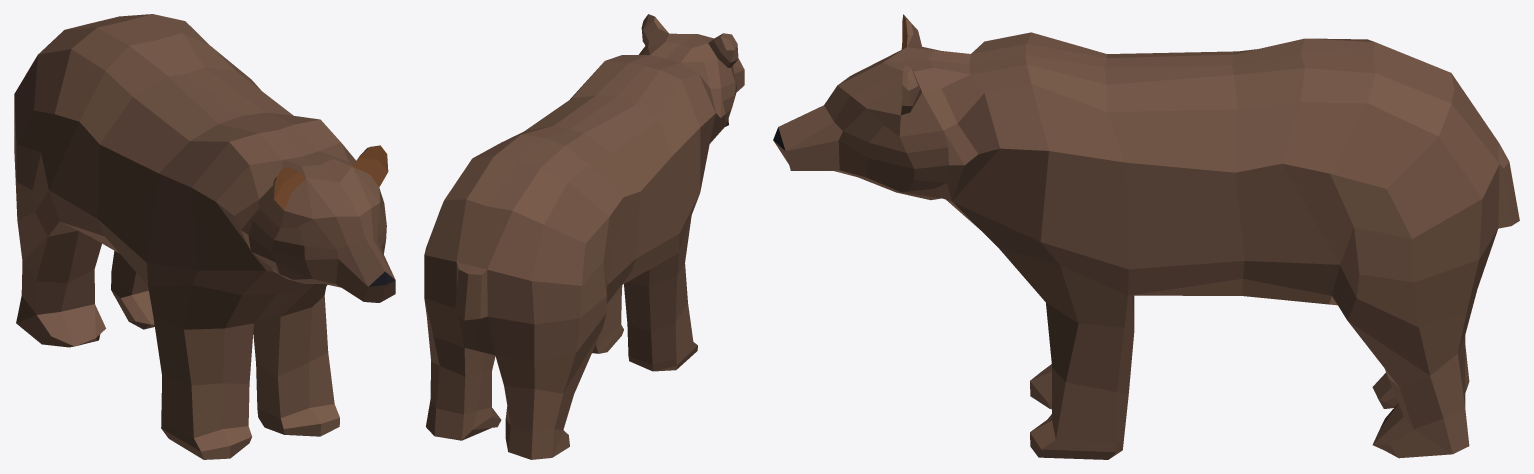
The model's file is Bear.fbx.
The picture shows the model from 3 angles, left to right: view 1: azimuth 30°, elevation 25°; view 2: azimuth 150°, elevation 25°; view 3: azimuth 270°, elevation 25°; orthographic projection. The views are drawn at different scales.
Visible parts, largest first — view 1: Cube; view 2: Cube; view 3: Cube.
Part boxes in pixels (x1,y1,x2,y2): Cube: [14, 14, 395, 459]; Cube: [424, 14, 744, 459]; Cube: [773, 14, 1519, 459].
Size of the model in its own units: 274 by 440 by 777.
